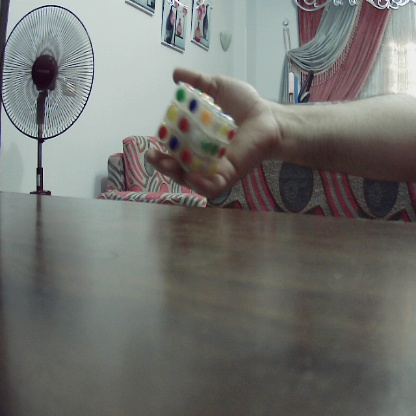Rubix Cube: (156, 83, 234, 175)
